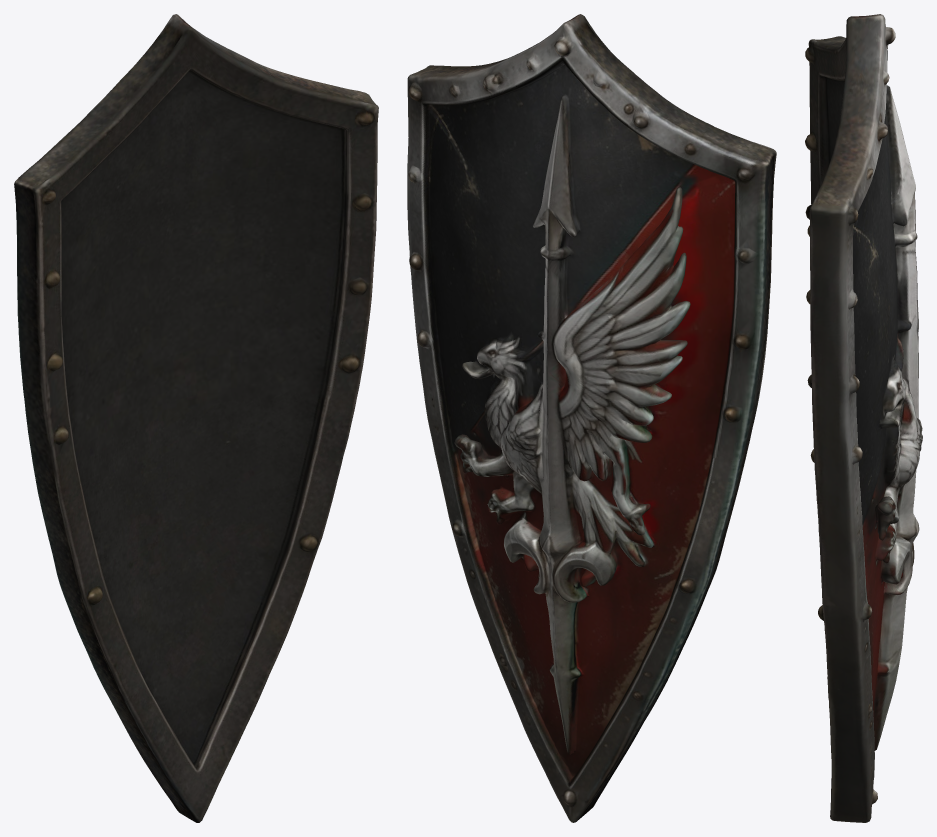
The model's file is kite_griffin.glb.
3 renders of one model, left to right at view 1: azimuth 30°, elevation 25°; view 2: azimuth 150°, elevation 25°; view 3: azimuth 270°, elevation 25°, orthographic.
Visible parts, largest first — view 1: kite_griffin; view 2: kite_griffin; view 3: kite_griffin.
Boxes of the visible parts, x1,y1,x2,y2 form: kite_griffin: [14, 14, 378, 822]; kite_griffin: [407, 14, 776, 822]; kite_griffin: [805, 14, 922, 822].
Bounding box in the file's own units: 0.3933 × 0.8392 × 0.1109.
Materials: 1 (1 with a texture image).
